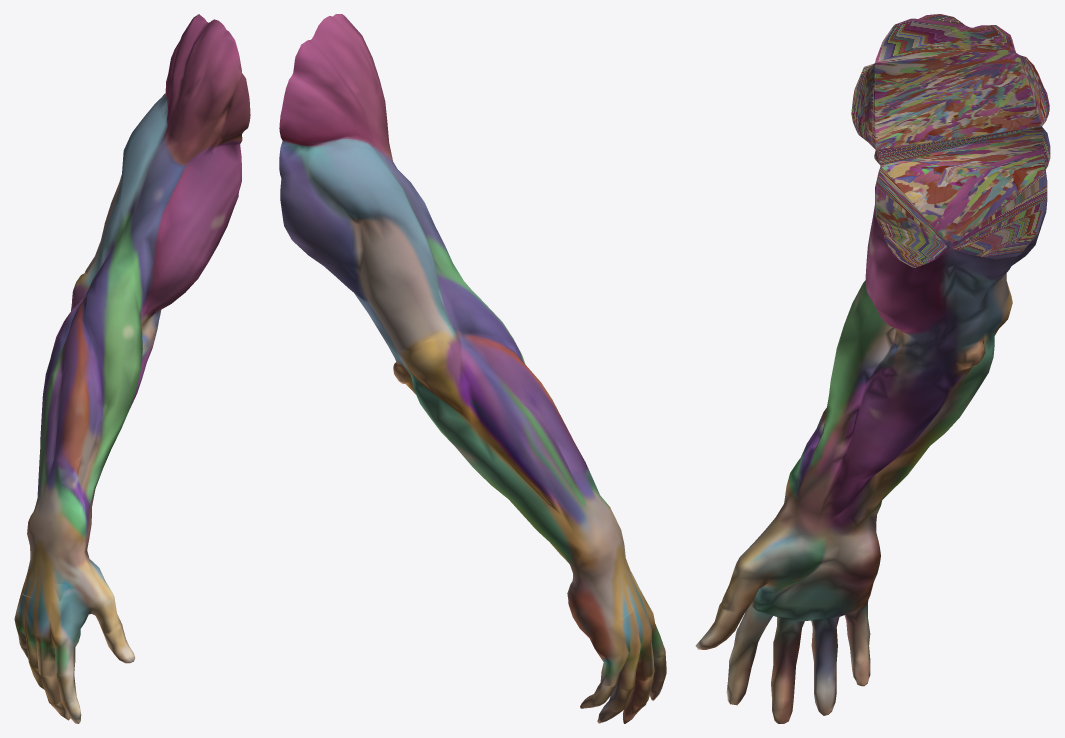
File: derived-anatomy-right-arm.glb
3 views of the same model, side by side, from view 1: azimuth 30°, elevation 25°; view 2: azimuth 150°, elevation 25°; view 3: azimuth 270°, elevation 25° (orthographic). The views are drawn at different scales.
Visible parts, largest first — view 1: derived-anatomy-right-arm; view 2: derived-anatomy-right-arm; view 3: derived-anatomy-right-arm.
Part boxes in pixels (bbox=[...]): derived-anatomy-right-arm: bbox=[14, 14, 250, 723]; derived-anatomy-right-arm: bbox=[279, 14, 666, 723]; derived-anatomy-right-arm: bbox=[695, 14, 1050, 723].
Size of the model in its own units: 0.2796 by 0.691 by 0.2607.
1 material, 1 textured.
